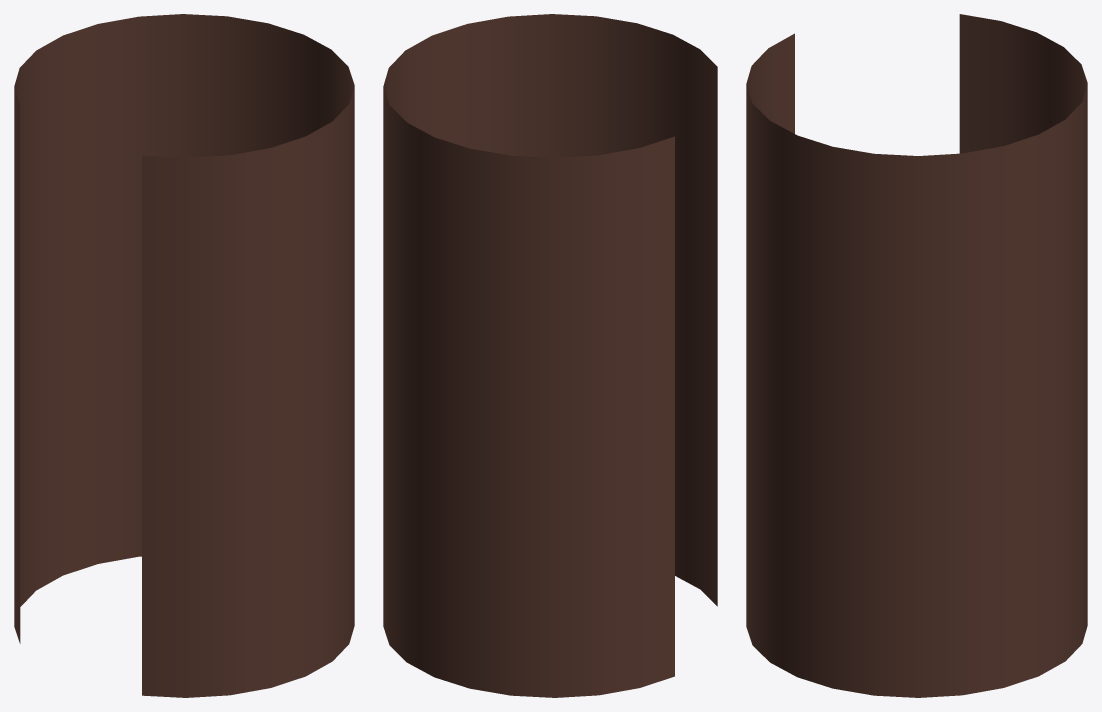
File: original-56.obj
3 renders of one model, left to right at view 1: azimuth 30°, elevation 25°; view 2: azimuth 150°, elevation 25°; view 3: azimuth 270°, elevation 25°, orthographic.
Visible parts, largest first — view 1: Hinge_-_4in_x_3_lug_m1/Hinge_-_4in_x_3_lug_m/Hinge_-_male1/Hinge; view 2: Hinge_-_4in_x_3_lug_m1/Hinge_-_4in_x_3_lug_m/Hinge_-_male1/Hinge; view 3: Hinge_-_4in_x_3_lug_m1/Hinge_-_4in_x_3_lug_m/Hinge_-_male1/Hinge.
Boxes of the visible parts, x1,y1,x2,y2 form: Hinge_-_4in_x_3_lug_m1/Hinge_-_4in_x_3_lug_m/Hinge_-_male1/Hinge: (14,14,354,697); Hinge_-_4in_x_3_lug_m1/Hinge_-_4in_x_3_lug_m/Hinge_-_male1/Hinge: (383,14,717,697); Hinge_-_4in_x_3_lug_m1/Hinge_-_4in_x_3_lug_m/Hinge_-_male1/Hinge: (746,14,1087,697).
Bounding box in the file's own units: 0.0176 × 0.0312 × 0.0178.
